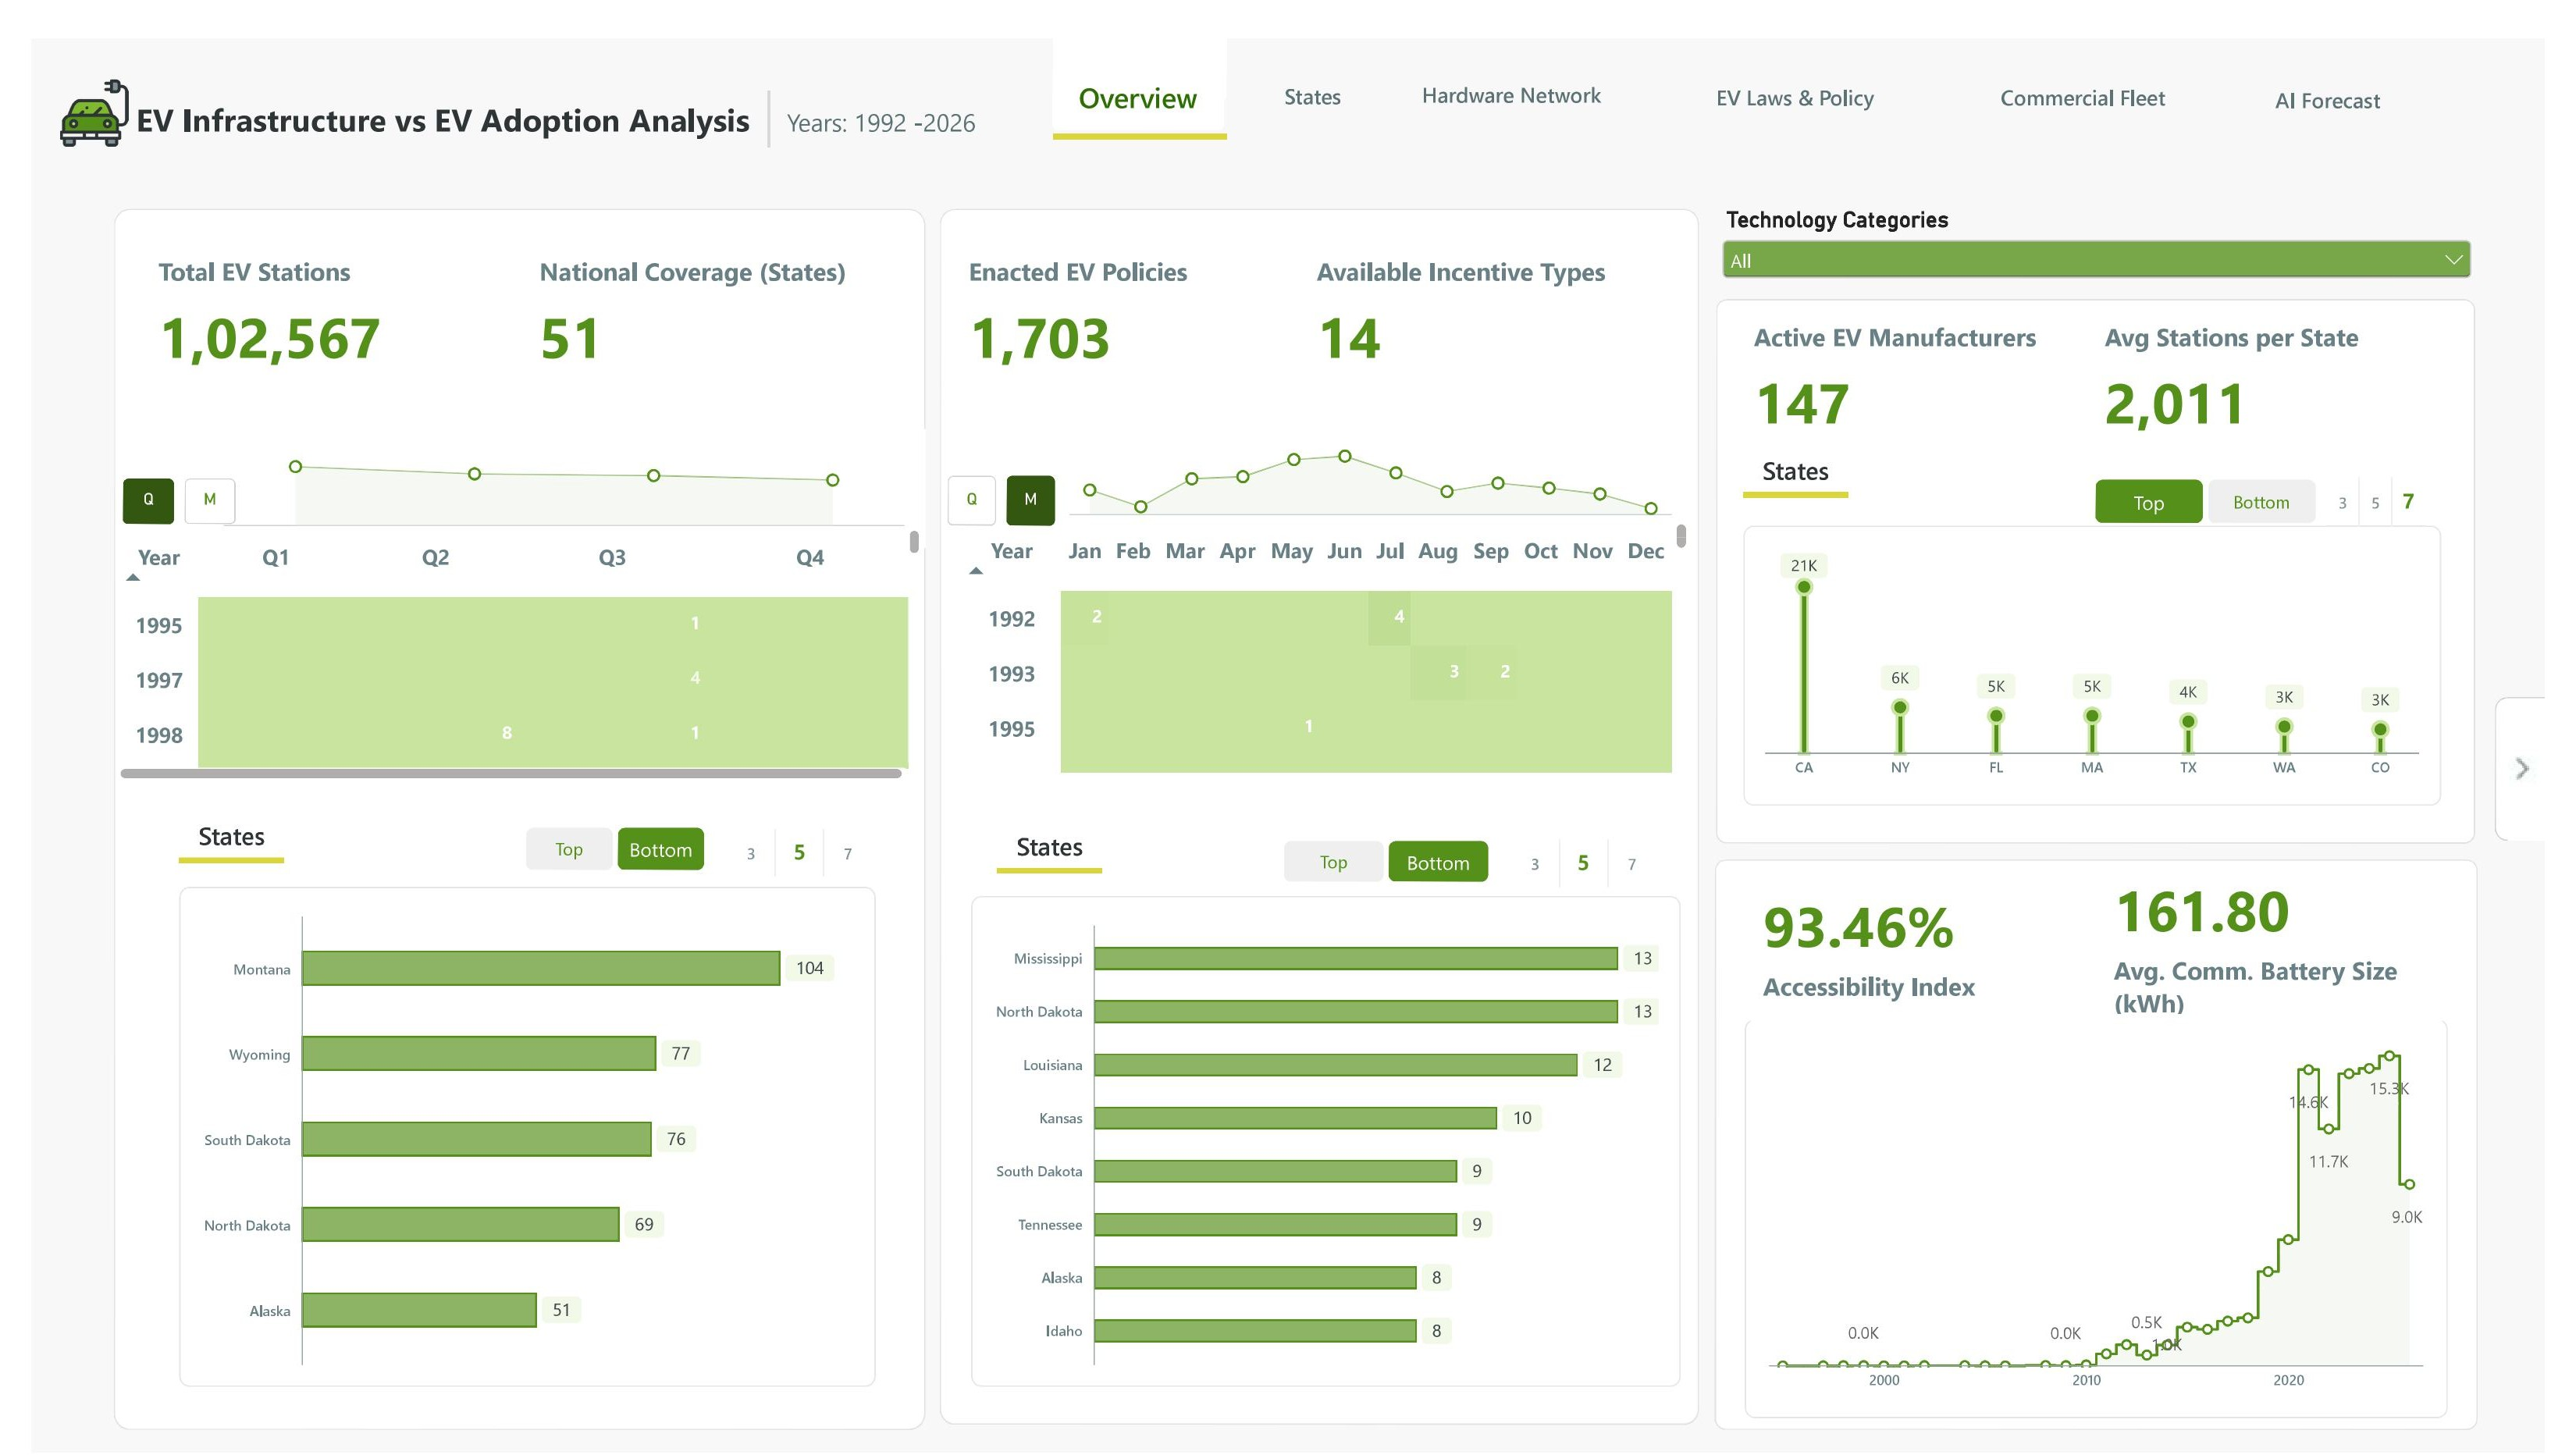

This screenshot's page, from the dashboard's own definition file:
{"tool":"powerbi","page":{"name":"Executive Overview","canvas":[1920,1080],"ordinal":0},"visuals":[{"type":"shape","box":[781.4,0,132,46],"z":0},{"type":"shape","box":[1308,336.4,80,25],"z":0,"group":"g2"},{"type":"actionButton","box":[912.9,18.6,132.2,50],"z":1000},{"type":"shape","box":[1308,311.4,80,36.7],"z":1000,"group":"g2"},{"type":"shape","box":[781.4,62.9,132,24],"z":2000},{"type":"actionButton","box":[780,21.4,131.2,48.8],"z":3000},{"type":"actionButton","box":[1035.7,18.6,190,48.6],"z":4000},{"type":"shape","box":[62.5,130,620,932.5],"z":5000},{"type":"cardVisual","fields":{"Data":["Key Measures.Total EV Stations","CountNonNull(dim_state.State)"]},"box":[81.4,148.6,582.9,124.3],"z":6000},{"type":"shape","box":[694.3,130,580,928.6],"z":7000},{"type":"shape","box":[1286.6,198.5,580.1,416.5],"z":8000},{"type":"cardVisual","fields":{"Data":["Key Measures.Total EV Laws","Count(laws_and_incentives (Aug 25 2026).Incentive Categories)"]},"box":[700,148.6,532,124],"z":9000},{"type":"cardVisual","fields":{"Data":["CountNonNull(medium-and-heavy-duty-vehicles-2026-08-25.Manufacturer)","Key Measures.Avg Stations per State"]},"box":[1300.3,210.2,535.7,101.4],"z":10000},{"type":"shape","box":[1285.7,627.1,582.9,435.7],"z":11000},{"type":"lineChart","fields":{"Category":["alt_fuel_stations_historical_day (Aug 25 2026).Quarter Short"],"Y":["Key Measures.Total EV Stations"]},"box":[131.4,298.6,551.4,90],"z":12000},{"type":"group","id":"g1","title":"Group 1","box":[67.1,371.4,615.7,198.6],"z":13000},{"type":"advancedSlicerVisual","fields":{"Values":["Number Table.N_Value"]},"box":[532,604.4,112,36],"z":14000},{"type":"advancedSlicerVisual","fields":{"Values":["TopBottom Table.Selection "]},"box":[378.2,602.6,136,32],"z":15000},{"type":"group","id":"g2","title":"Group 3","box":[1308,311.4,79.8,50.6],"z":16000},{"type":"pivotTable","fields":{"Columns":["laws_and_incentives (Aug 25 2026).Month Short"],"Rows":["laws_and_incentives (Aug 25 2026).Enacted Date.Variation.Date Hierarchy.Year"],"Values":["Key Measures.Total EV Laws"]},"box":[711.4,365.7,557.5,197.5],"z":16000,"group":"g4"},{"type":"pivotTable","fields":{"Columns":["alt_fuel_stations_historical_day (Aug 25 2026).Quarter Short"],"Rows":["alt_fuel_stations_historical_day (Aug 25 2026).Year"],"Values":["Key Measures.Total EV Stations"]},"box":[67.1,371.4,615.7,198.6],"z":16000,"group":"g1"},{"type":"group","id":"g3","title":"Group 4","box":[113,589.8,80,50],"z":17000},{"type":"barChart","fields":{"Category":["dim_state.State_Name"],"Y":["Key Measures.Dynamic Top N Stations"]},"box":[112.5,647.5,532.5,382.5],"z":18000},{"type":"lineChart","fields":{"Category":["alt_fuel_stations_historical_day (Aug 25 2026).Open Date.Variation.Date Hierarchy.Year"],"Y":["Key Measures.Total EV Stations"]},"box":[1309.2,749.2,536.7,305],"z":19000},{"type":"actionButton","box":[1882,502.5,38.8,110],"z":20000},{"type":"shape","box":[80,36.7,531.7,48.3],"z":21000},{"type":"image","box":[15,31.2,65,51.7],"z":22000},{"type":"shape","box":[576.7,45,268.3,36.7],"z":23000},{"type":"shape","box":[556.7,40,13.3,43.3],"z":24000},{"type":"cardVisual","fields":{"Data":["Key Measures.Accessibility Index","Key Measures.Average Commercial Battery Size"]},"box":[1307.1,638.6,537.2,110.9],"z":25000},{"type":"lineChart","fields":{"Category":["laws_and_incentives (Aug 25 2026).Month Short"],"Y":["Key Measures.Total EV Laws"]},"box":[777.1,291.4,491.4,90],"z":26000},{"type":"barChart","fields":{"Category":["dim_state.State_Name"],"Y":["Key Measures.Dynamic Top N Laws"]},"box":[717.5,655,542.5,375],"z":27000},{"type":"lineChart","fields":{"Category":["dim_state.State"],"Y":["Key Measures.Dynamic Top N DC Fast"]},"box":[1308,371.8,533.3,214.1],"z":28000},{"type":"group","id":"g4","title":"Group 1","box":[711.4,365.7,557.1,198.6],"z":29000},{"type":"actionButton","box":[1225.7,21.4,242.9,48.6],"z":30000},{"type":"shape","box":[113,614.8,80,25],"z":30000,"group":"g3"},{"type":"shape","box":[737.5,622.5,80,25],"z":30000,"group":"g5"},{"type":"actionButton","box":[1468.9,21.1,196.7,48.9],"z":31000},{"type":"shape","box":[113,589.8,80,36.7],"z":31000,"group":"g3"},{"type":"shape","box":[737.5,597.5,80,36.7],"z":31000,"group":"g5"},{"type":"actionButton","box":[1665.7,22.9,177.1,48.6],"z":32000},{"type":"group","id":"g5","title":"Group 4","box":[737.5,597.5,80,50],"z":33000},{"type":"advancedSlicerVisual","fields":{"Values":["TopBottom Table.Selection "]},"box":[957.3,613.5,156,31],"z":34000},{"type":"advancedSlicerVisual","fields":{"Values":["Number Table.N_Value"]},"box":[1131,611.7,112,36],"z":35000},{"type":"advancedSlicerVisual","fields":{"Values":["TopBottom Table.Selection"]},"box":[1576.7,336.7,169,33],"z":36000},{"type":"advancedSlicerVisual","fields":{"Values":["Number Table.N_Value"]},"box":[1753.8,334.8,74,38],"z":37000},{"type":"advancedSlicerVisual","fields":{"Values":["Parameter Laws.Time"]},"box":[700,334.3,82.7,37.3],"z":38000},{"type":"advancedSlicerVisual","fields":{"Values":["Time Toggle.Parameter"]},"box":[70,335.7,85.7,35.7],"z":39000},{"type":"slicer","fields":{"Values":["laws_and_incentives (Aug 25 2026).Technology Categories"]},"box":[1286.6,128.5,582,70.1],"z":40000}]}

Visuals, with their boxes in screenshot pixels (x1, y1, x2, y2), scaled from the page's 1920x1080 canvas onto the 2576x1455 screenshot:
shape: (left=1048, top=0, right=1226, bottom=62)
shape: (left=1755, top=454, right=1863, bottom=487)
actionButton: (left=1225, top=25, right=1402, bottom=92)
shape: (left=1755, top=419, right=1863, bottom=469)
shape: (left=1048, top=85, right=1226, bottom=117)
actionButton: (left=1047, top=29, right=1222, bottom=94)
actionButton: (left=1389, top=25, right=1645, bottom=91)
shape: (left=84, top=175, right=916, bottom=1432)
cardVisual - Key Measures.Total EV Stations x CountNonNull(dim_state.State): (left=109, top=200, right=891, bottom=368)
shape: (left=931, top=175, right=1710, bottom=1426)
shape: (left=1726, top=268, right=2504, bottom=828)
cardVisual - Key Measures.Total EV Laws x Count(laws_and_incentives (Aug 25 2026).Incentive Categories): (left=939, top=200, right=1653, bottom=367)
cardVisual - CountNonNull(medium-and-heavy-duty-vehicles-2026-08-25.Manufacturer) x Key Measures.Avg Stations per State: (left=1745, top=283, right=2464, bottom=420)
shape: (left=1725, top=845, right=2507, bottom=1432)
lineChart - alt_fuel_stations_historical_day (Aug 25 2026).Quarter Short x Key Measures.Total EV Stations: (left=176, top=402, right=916, bottom=524)
"Group 1" group: (left=90, top=500, right=916, bottom=768)
advancedSlicerVisual - Number Table.N_Value: (left=713, top=814, right=864, bottom=863)
advancedSlicerVisual - TopBottom Table.Selection : (left=507, top=812, right=690, bottom=855)
"Group 3" group: (left=1755, top=419, right=1862, bottom=488)
pivotTable - laws_and_incentives (Aug 25 2026).Month Short x laws_and_incentives (Aug 25 2026).Enacted Date.Variation.Date Hierarchy.Year: (left=955, top=493, right=1703, bottom=759)
pivotTable - alt_fuel_stations_historical_day (Aug 25 2026).Quarter Short x alt_fuel_stations_historical_day (Aug 25 2026).Year: (left=90, top=500, right=916, bottom=768)
"Group 4" group: (left=151, top=795, right=259, bottom=862)
barChart - dim_state.State_Name x Key Measures.Dynamic Top N Stations: (left=151, top=873, right=866, bottom=1388)
lineChart - alt_fuel_stations_historical_day (Aug 25 2026).Open Date.Variation.Date Hierarchy.Year x Key Measures.Total EV Stations: (left=1756, top=1009, right=2477, bottom=1420)
actionButton: (left=2525, top=677, right=2575, bottom=825)
shape: (left=108, top=49, right=820, bottom=115)
image: (left=20, top=42, right=108, bottom=112)
shape: (left=774, top=61, right=1133, bottom=110)
shape: (left=747, top=54, right=765, bottom=112)
cardVisual - Key Measures.Accessibility Index x Key Measures.Average Commercial Battery Size: (left=1754, top=860, right=2475, bottom=1010)
lineChart - laws_and_incentives (Aug 25 2026).Month Short x Key Measures.Total EV Laws: (left=1043, top=393, right=1702, bottom=514)
barChart - dim_state.State_Name x Key Measures.Dynamic Top N Laws: (left=962, top=882, right=1691, bottom=1388)
lineChart - dim_state.State x Key Measures.Dynamic Top N DC Fast: (left=1755, top=501, right=2471, bottom=789)
"Group 1" group: (left=955, top=493, right=1702, bottom=760)
actionButton: (left=1645, top=29, right=1970, bottom=94)
shape: (left=151, top=828, right=259, bottom=862)
shape: (left=990, top=838, right=1097, bottom=873)
actionButton: (left=1971, top=28, right=2235, bottom=94)
shape: (left=151, top=795, right=259, bottom=844)
shape: (left=990, top=805, right=1097, bottom=855)
actionButton: (left=2235, top=31, right=2472, bottom=96)
"Group 4" group: (left=990, top=805, right=1097, bottom=873)
advancedSlicerVisual - TopBottom Table.Selection : (left=1284, top=827, right=1493, bottom=868)
advancedSlicerVisual - Number Table.N_Value: (left=1517, top=824, right=1667, bottom=873)
advancedSlicerVisual - TopBottom Table.Selection: (left=2115, top=454, right=2342, bottom=498)
advancedSlicerVisual - Number Table.N_Value: (left=2353, top=451, right=2453, bottom=502)
advancedSlicerVisual - Parameter Laws.Time: (left=939, top=450, right=1050, bottom=500)
advancedSlicerVisual - Time Toggle.Parameter: (left=94, top=452, right=209, bottom=500)
slicer - laws_and_incentives (Aug 25 2026).Technology Categories: (left=1726, top=173, right=2507, bottom=268)
